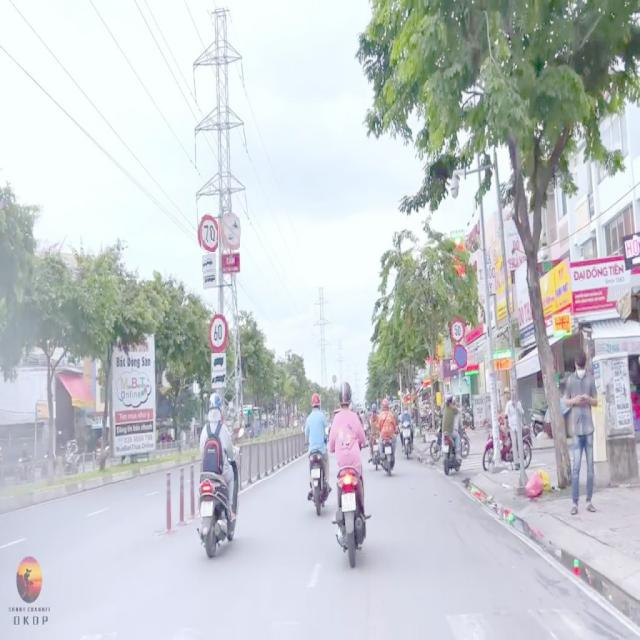cam_dung_xe_va_do_xe: (452, 343, 467, 370)
cam_xe_2_banh_va_xe_3_banh_co_dong_co: (218, 212, 240, 250)
khac: (198, 213, 218, 252), (211, 354, 226, 372), (202, 254, 216, 272), (212, 371, 226, 389), (203, 271, 216, 289)
toc_do_toi_da_50: (451, 317, 467, 342)
toc_do_toi_da_60: (208, 315, 229, 352)
